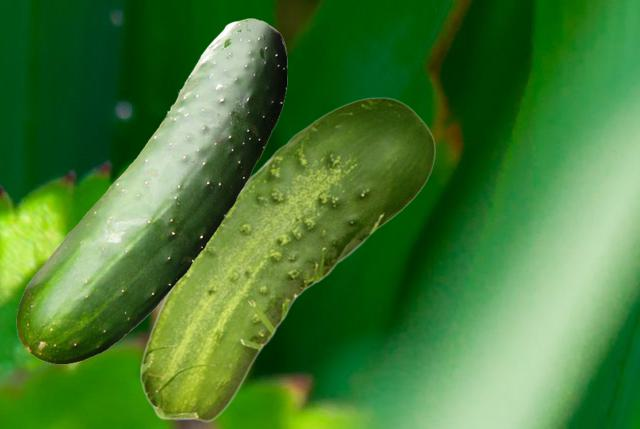cucumber: (139, 97, 434, 421), (16, 18, 286, 363)
